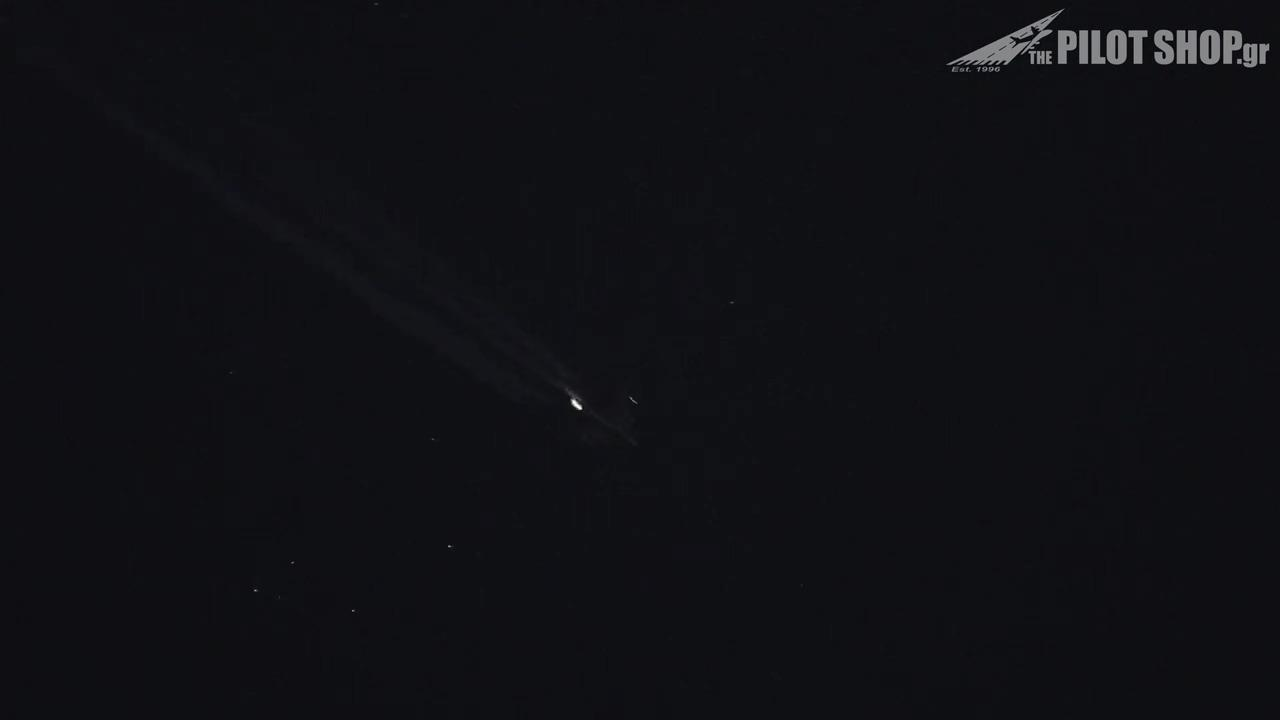Plane: (537, 379, 703, 469)
